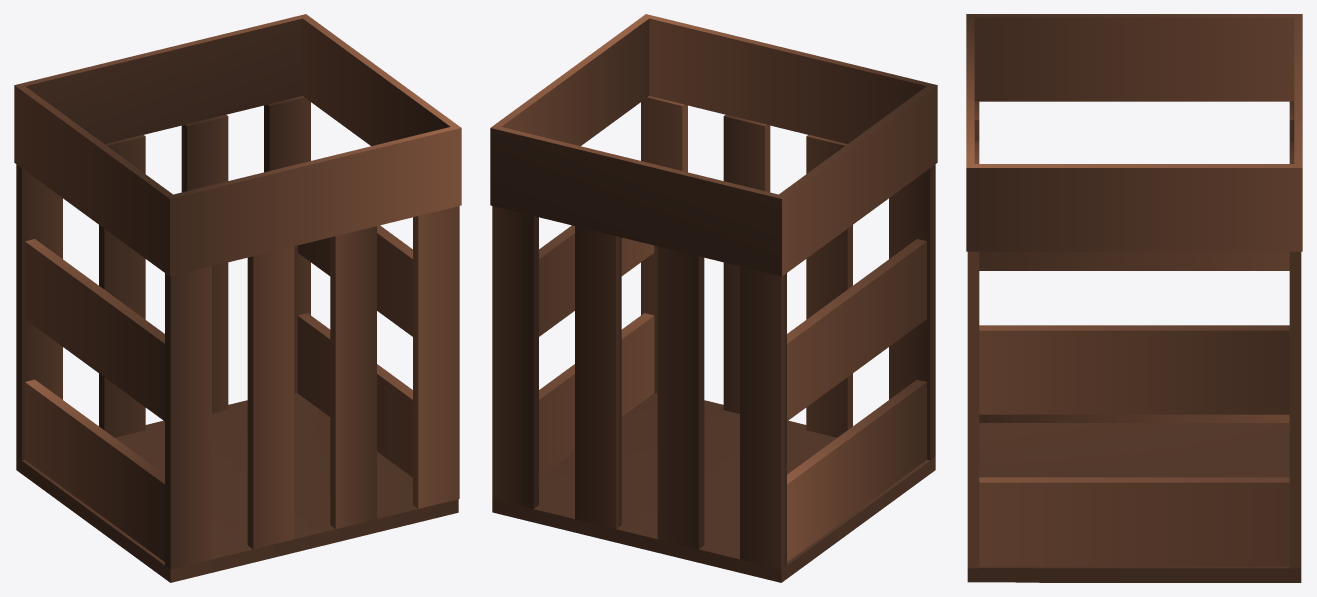
File: Tall Cherry Crate No Lid.fbx
The picture shows the model from 3 angles, left to right: view 1: azimuth 30°, elevation 25°; view 2: azimuth 150°, elevation 25°; view 3: azimuth 270°, elevation 25°; orthographic projection. The views are drawn at different scales.
Visible parts, largest first — view 1: Tall Cherry Crate No Lid; view 2: Tall Cherry Crate No Lid; view 3: Tall Cherry Crate No Lid.
Boxes of the visible parts, x1,y1,x2,y2 form: Tall Cherry Crate No Lid: [14, 14, 461, 582]; Tall Cherry Crate No Lid: [490, 14, 937, 582]; Tall Cherry Crate No Lid: [966, 14, 1302, 582].
Bounding box in the file's own units: 284 × 208 × 225.
1 material, 1 textured.
